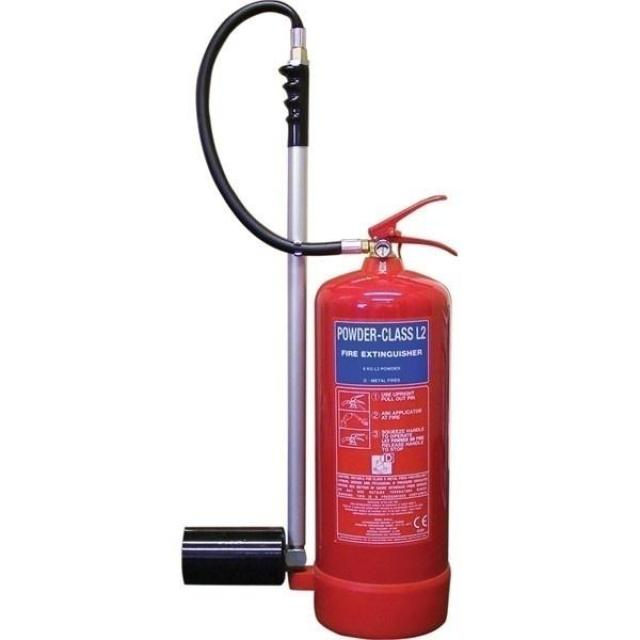fire_extinguisher: (170, 0, 466, 639)
